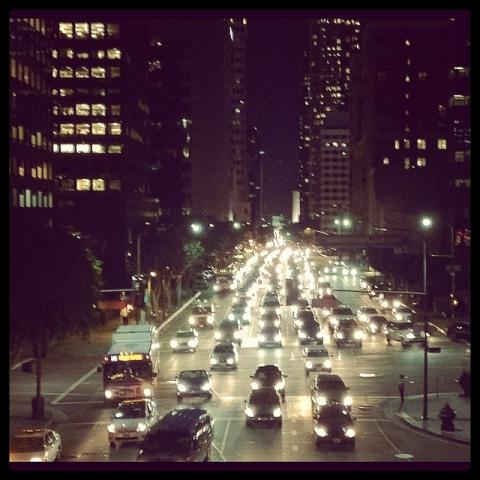bus: (97, 324, 161, 404)
car: (4, 248, 474, 470), (108, 398, 158, 449), (310, 374, 353, 420), (314, 404, 356, 449), (246, 387, 282, 430), (250, 365, 286, 399), (176, 371, 213, 401), (207, 342, 239, 371), (334, 318, 362, 348), (215, 318, 243, 347), (170, 329, 199, 354), (257, 323, 282, 348), (297, 324, 324, 346), (230, 302, 247, 313)
